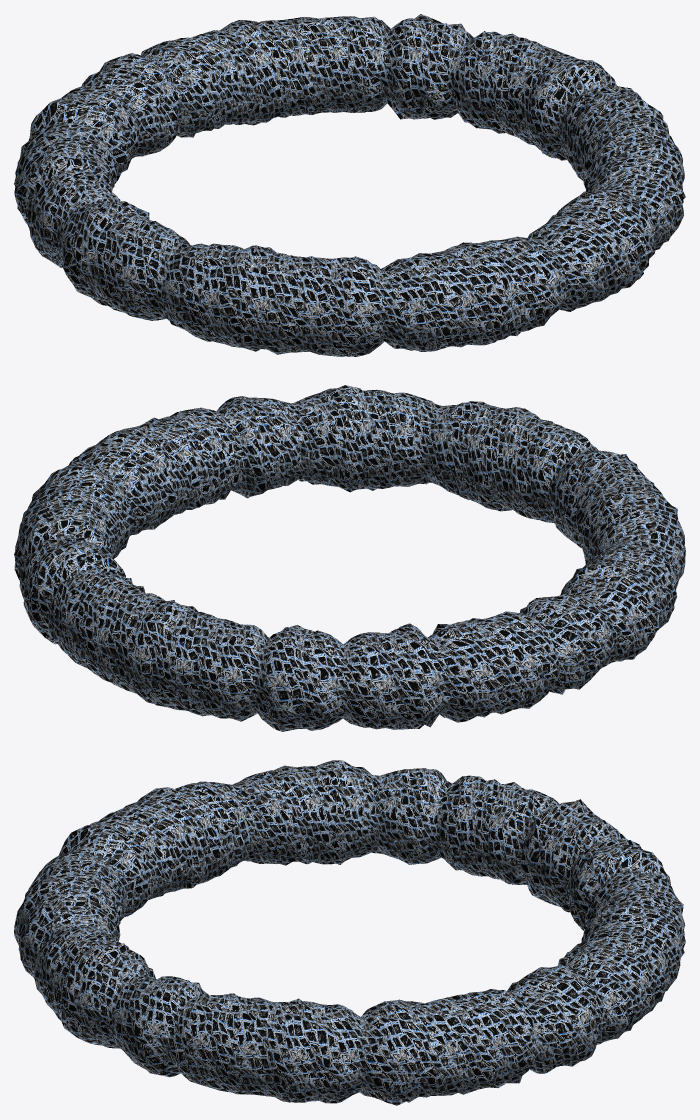
The model's file is Artere.FBX.
3 renders of one model, top to bottom at view 1: azimuth 30°, elevation 25°; view 2: azimuth 150°, elevation 25°; view 3: azimuth 270°, elevation 25°, orthographic.
Parts seen in each view (by area): view 1: Artere; view 2: Artere; view 3: Artere.
Boxes of the visible parts, x1,y1,x2,y2 form: Artere: (14,14,685,356); Artere: (14,385,685,731); Artere: (14,760,685,1105).
Bounding box in the file's own units: 2799 × 455 × 2788.
